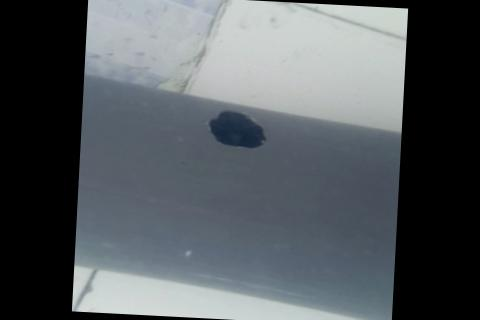kebocoran: (206, 107, 269, 150)
